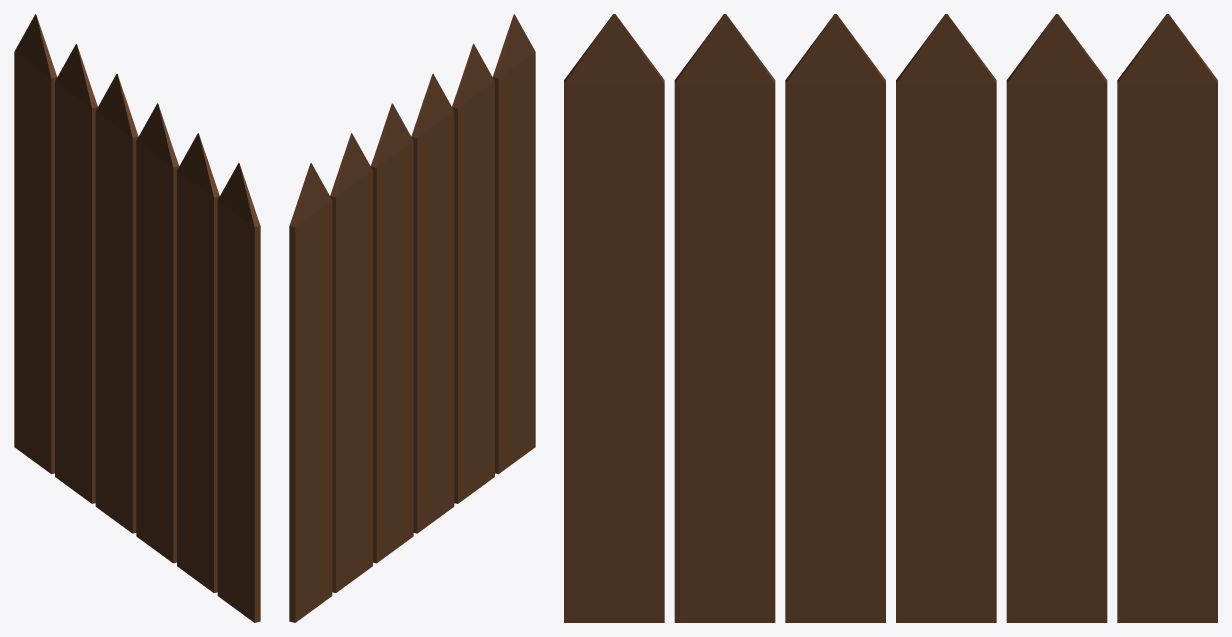
The model's file is Valla.fbx.
3 renders of one model, left to right at view 1: azimuth 30°, elevation 25°; view 2: azimuth 150°, elevation 25°; view 3: azimuth 270°, elevation 25°, orthographic. The views are drawn at different scales.
Visible parts, largest first — view 1: Cube; view 2: Cube; view 3: Cube.
Part boxes in pixels (box(x1,y1,x2,y2)): Cube: box(14, 14, 260, 622); Cube: box(289, 14, 535, 622); Cube: box(564, 14, 1217, 622).
Size of the model in its own units: 650 by 9.3 by 666.
